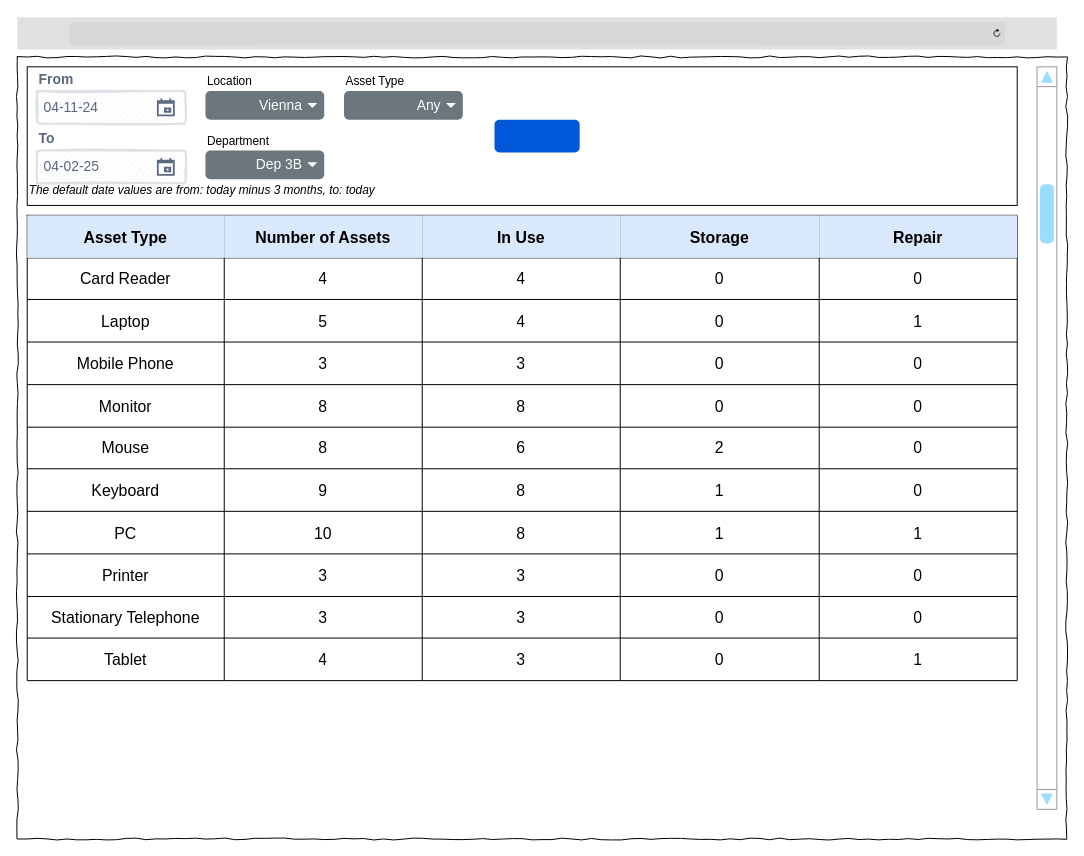
Some shapes in this 1084 by 856 pixel diagram are drawn without their labels. Each missing label, with the centre of its shape:
Apply: point 536,135
companyitassets/reports/hardwareassets/status: point 536,33
